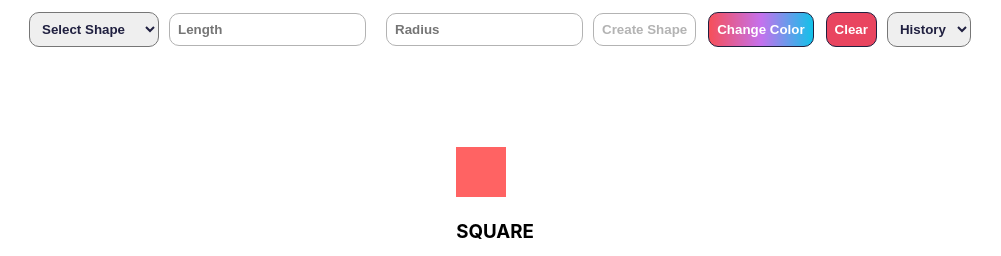
Test: clears shape
Select "Square" in the dropdown with test id "shape-select" at x=94, y=30, box [29, 12, 159, 47]
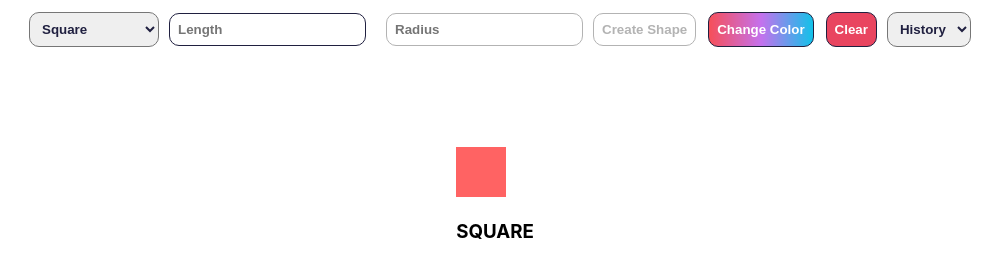
Type "50" into the number field with placeholder "Length".
click(268, 30); type("50")  # box [169, 13, 366, 46]
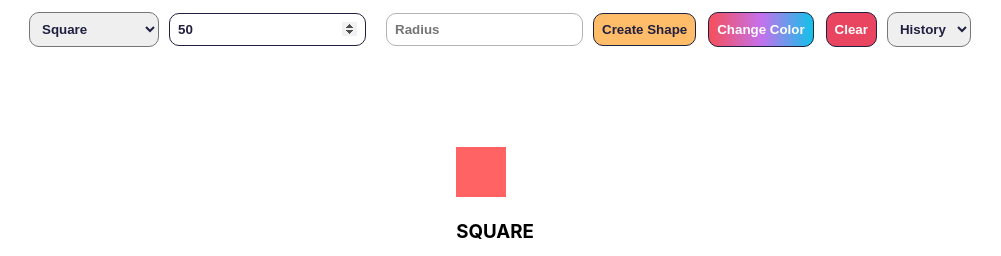
Click the button "Create Shape".
click(645, 30)  # box [593, 13, 696, 46]
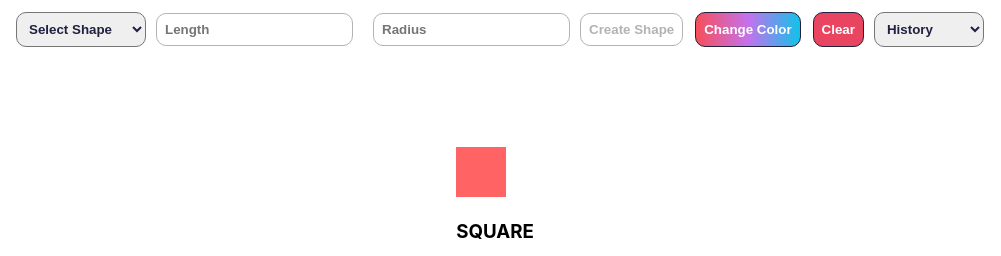
Click the button "Clear".
click(838, 30)  # box [813, 12, 864, 47]
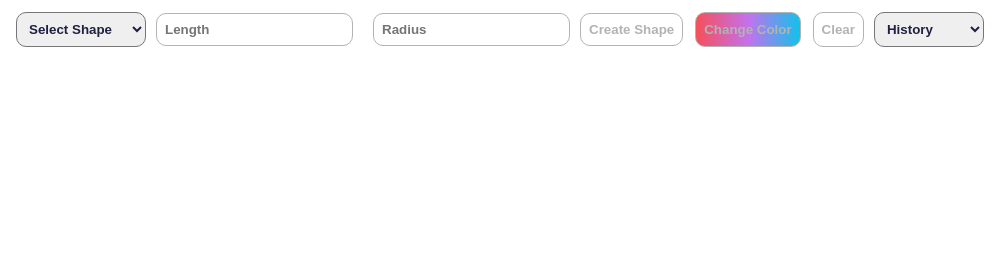
Expected: the button "Clear" is disabled, [813, 12, 864, 47]
